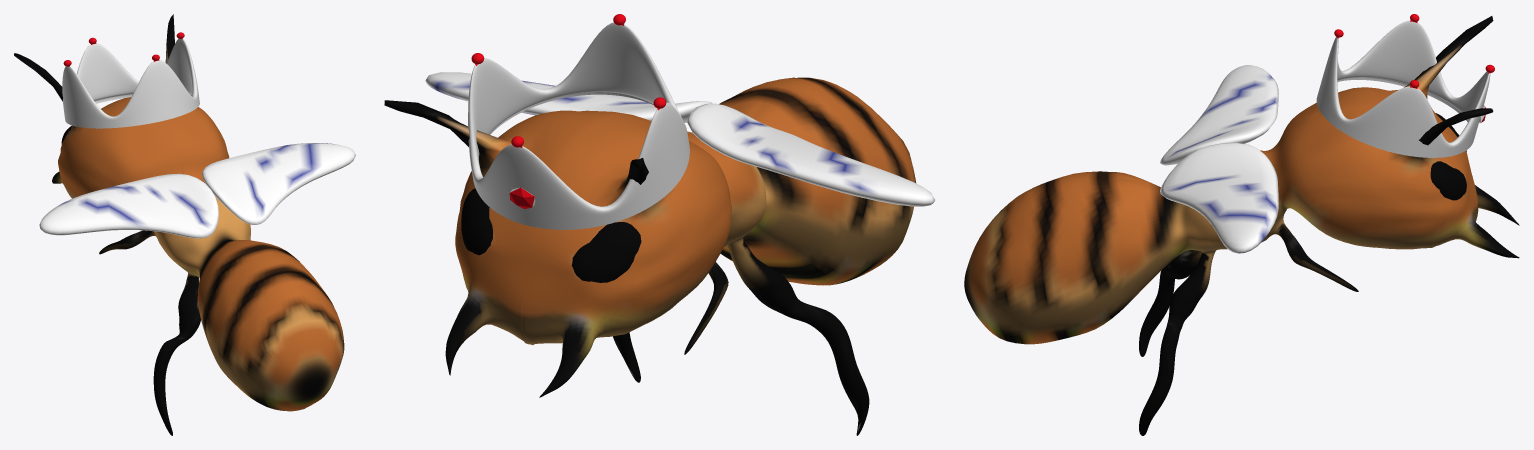
Rendered from queen_bee.fbx.
The picture shows the model from 3 angles, left to right: view 1: azimuth 30°, elevation 25°; view 2: azimuth 150°, elevation 25°; view 3: azimuth 270°, elevation 25°; orthographic projection. The views are drawn at different scales.
Parts seen in each view (by area): view 1: Cube.001, Plane, Circle; view 2: Cube.001, Circle, Plane, Sphere; view 3: Cube.001, Plane, Circle, Sphere.
Boxes of the visible parts, <box> form: Cube.001: <box>14,14,344,435</box>; Plane: <box>39,143,355,238</box>; Circle: <box>62,38,199,128</box>; Cube.001: <box>384,77,915,435</box>; Circle: <box>468,22,689,229</box>; Plane: <box>425,72,935,206</box>; Sphere: <box>461,188,641,282</box>; Cube.001: <box>964,16,1519,435</box>; Plane: <box>1160,65,1278,253</box>; Circle: <box>1316,20,1490,157</box>; Sphere: <box>1430,113,1466,200</box>.
Bounding box in the file's own units: 165 × 153 × 211.
